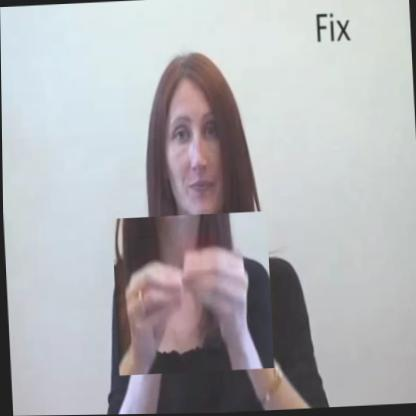Fix: (111, 212, 273, 376)
